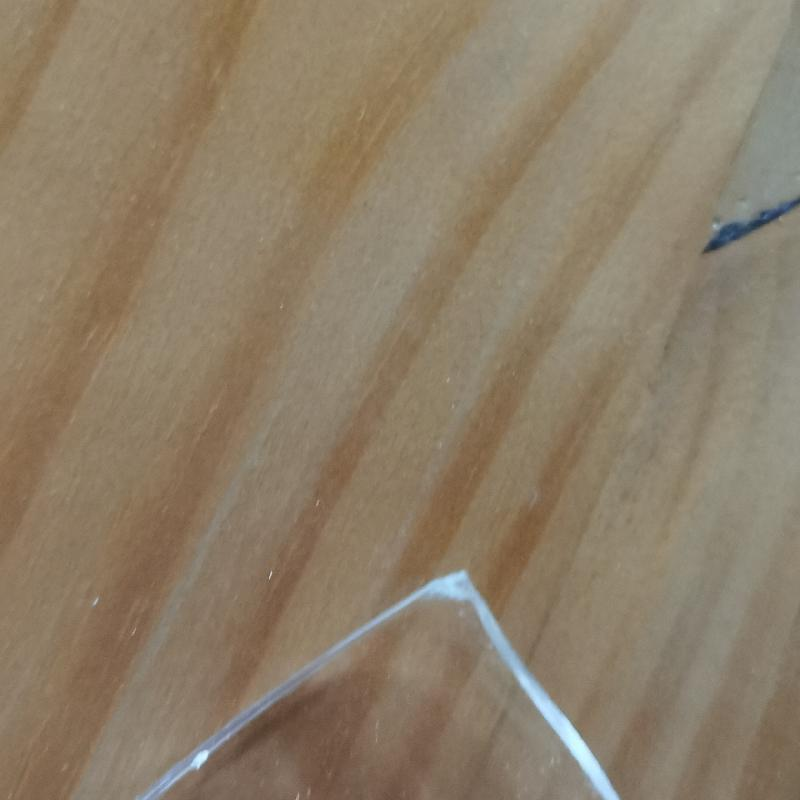glass: (118, 571, 666, 799)
